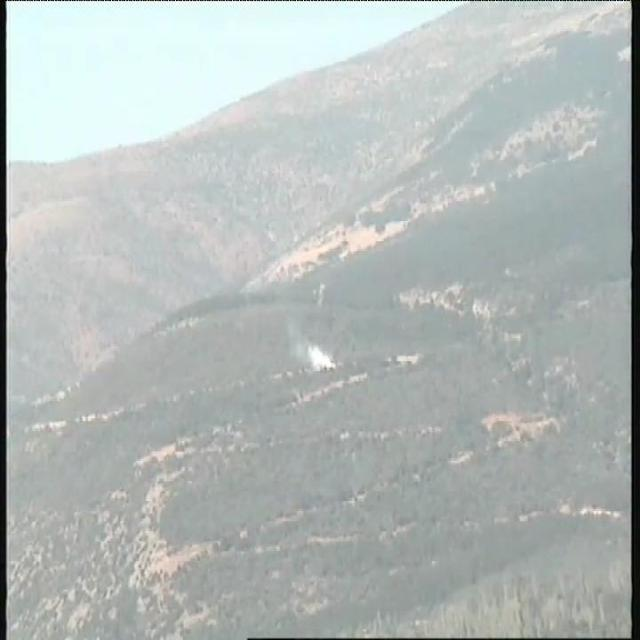Smoke: (297, 340, 338, 370)
